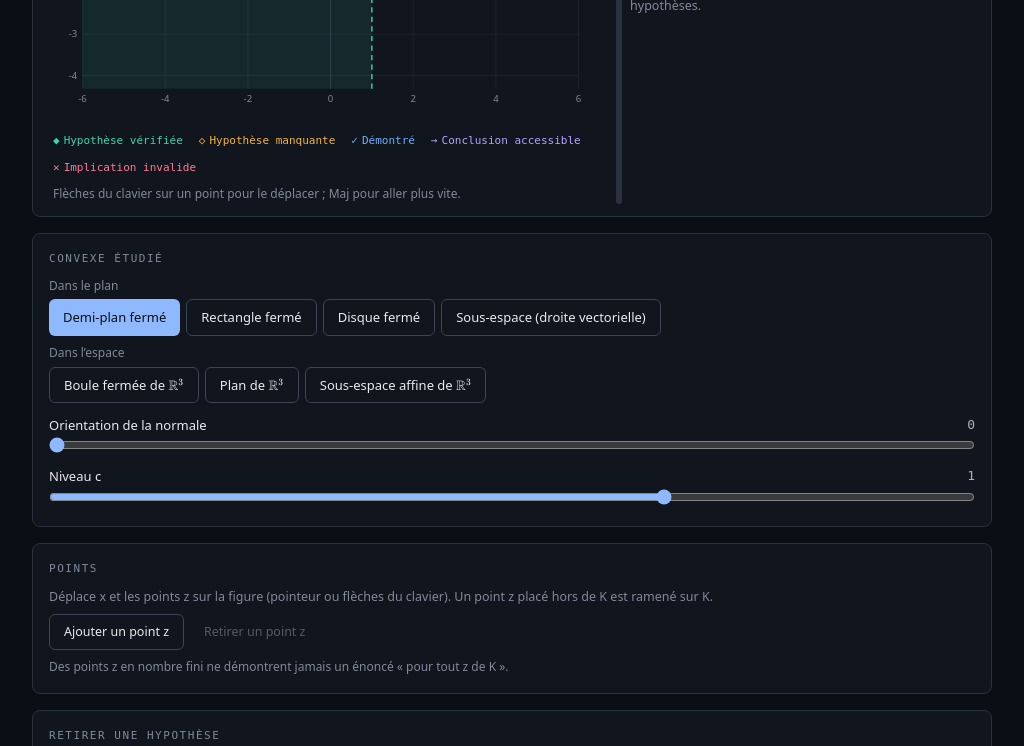
Test: Studio de projection › passage en dimension 3 : sans WebGL (jsdom), la coupe plane exacte remplace la vue 3D
(page scrolled)
What coordinates should you click on to do the following:
click the button "Boule fermée de R"
I would click on:
 (124, 385)
Its box is [49, 367, 199, 403].
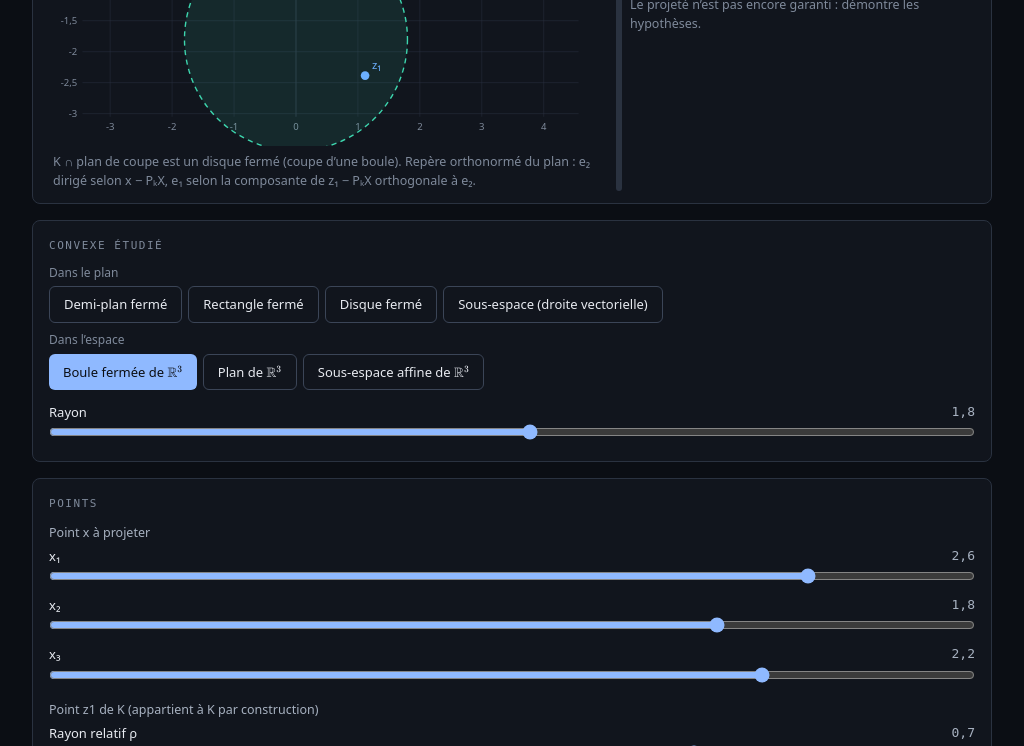
Now the element "Point x à projeter x₁ 2,6 x₂ 1,8 x₃ 2,2" is shown, box [49, 522, 975, 688]
